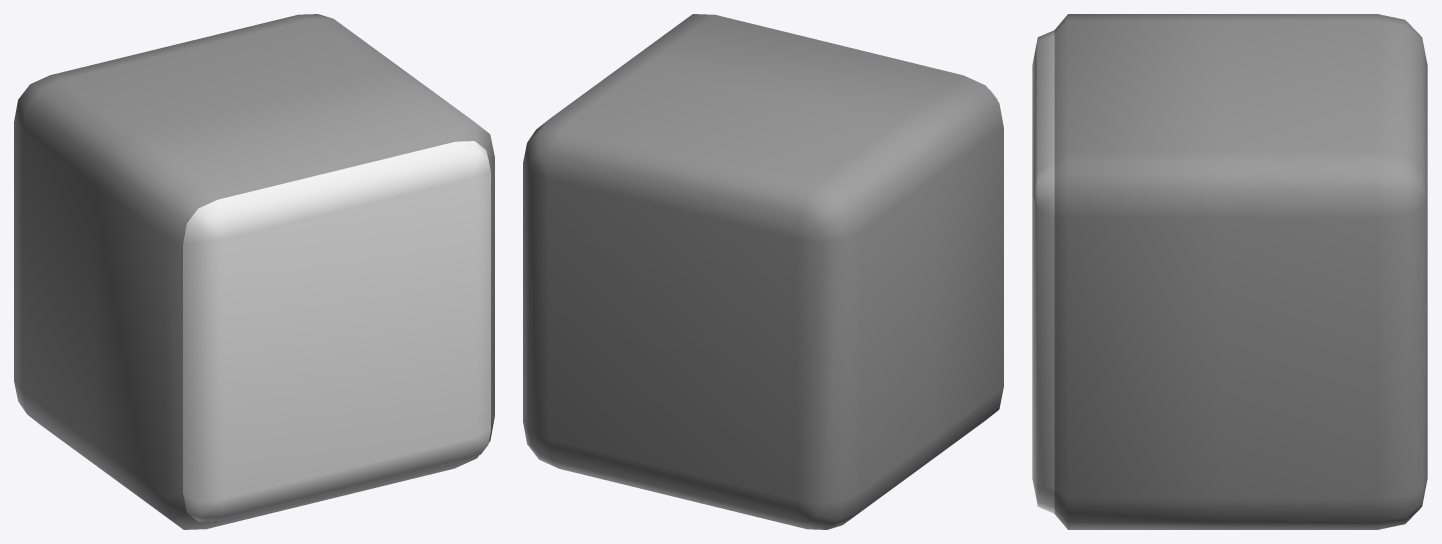
The model's file is Cloud block(1).FBX.
3 renders of one model, left to right at view 1: azimuth 30°, elevation 25°; view 2: azimuth 150°, elevation 25°; view 3: azimuth 270°, elevation 25°, orthographic. The views are drawn at different scales.
Parts seen in each view (by area): view 1: Object1078; view 2: Object1078; view 3: Object1078.
Boxes of the visible parts, x1,y1,x2,y2 form: Object1078: (14, 14, 494, 529); Object1078: (523, 14, 1003, 529); Object1078: (1032, 14, 1427, 529).
Bounding box in the file's own units: 19.76 × 19.76 × 19.06.
1 material, 1 textured.
